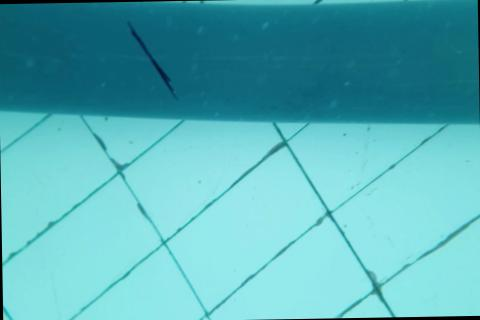keretakan: (124, 18, 178, 100)
